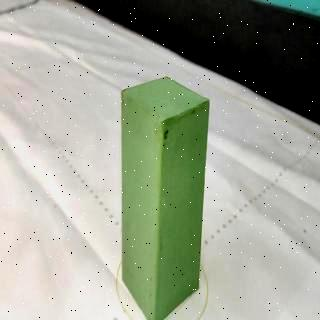greenbox: (119, 75, 211, 320)
